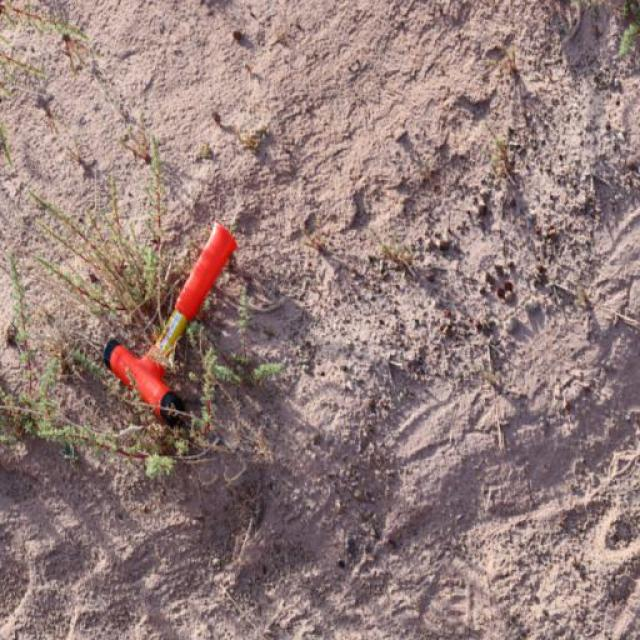mallet: (101, 220, 238, 428)
